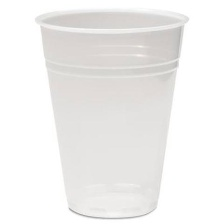glass: (29, 2, 191, 224)
